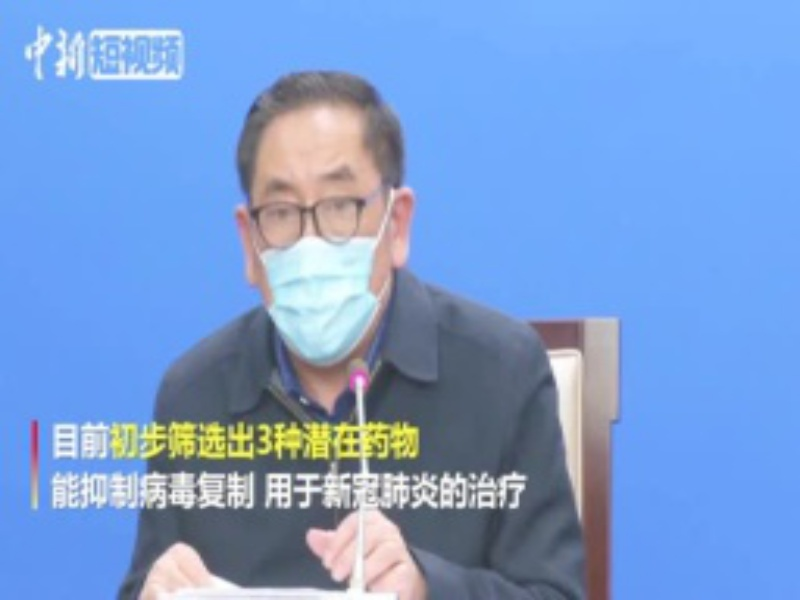ManaoArotava: (211, 68, 426, 378)
